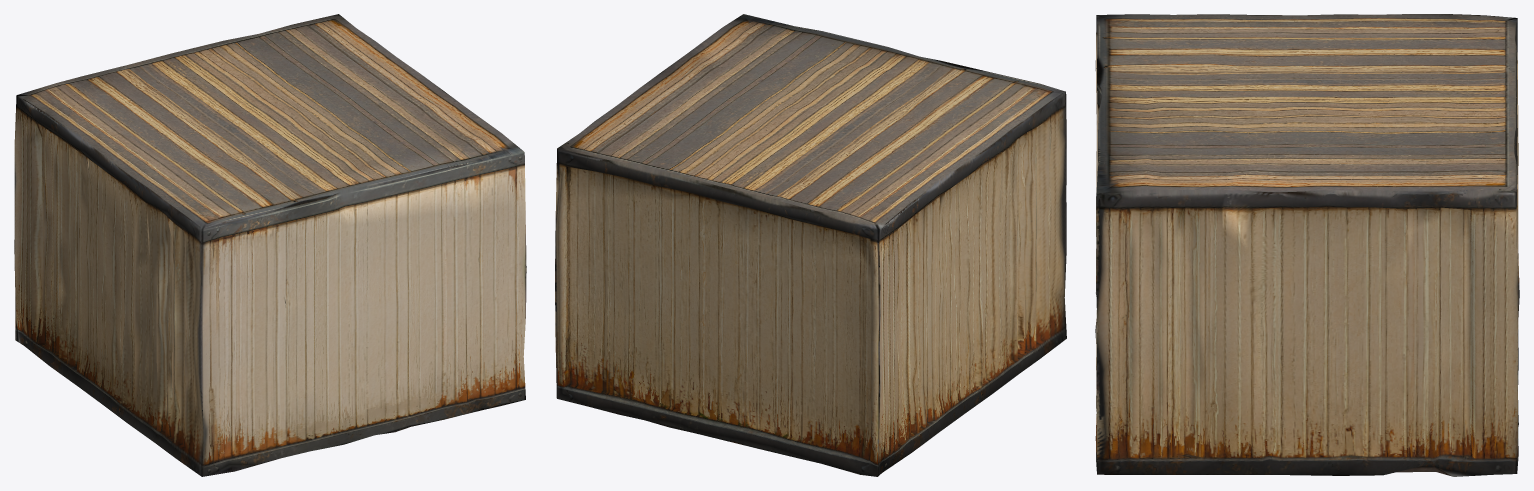
Rendered from EX_Camp_Wall.fbx.
The picture shows the model from 3 angles, left to right: view 1: azimuth 30°, elevation 25°; view 2: azimuth 150°, elevation 25°; view 3: azimuth 270°, elevation 25°; orthographic projection. The views are drawn at different scales.
Visible parts, largest first — view 1: texture_mapping; view 2: texture_mapping; view 3: texture_mapping.
Part boxes in pixels (x1,y1,x2,y2): texture_mapping: (14,14,526,476); texture_mapping: (555,14,1066,476); texture_mapping: (1095,14,1519,476).
Bounding box in the file's own units: 1 × 1 × 0.7535.
1 material, 1 textured.
